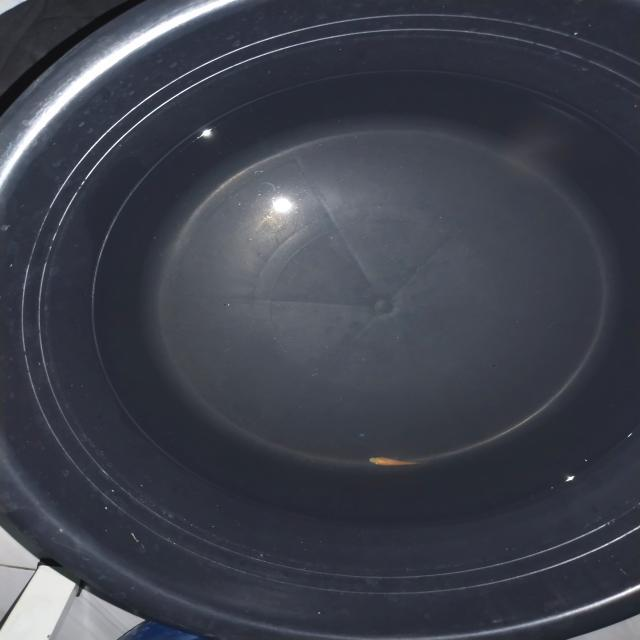nila: (364, 454, 422, 469)
